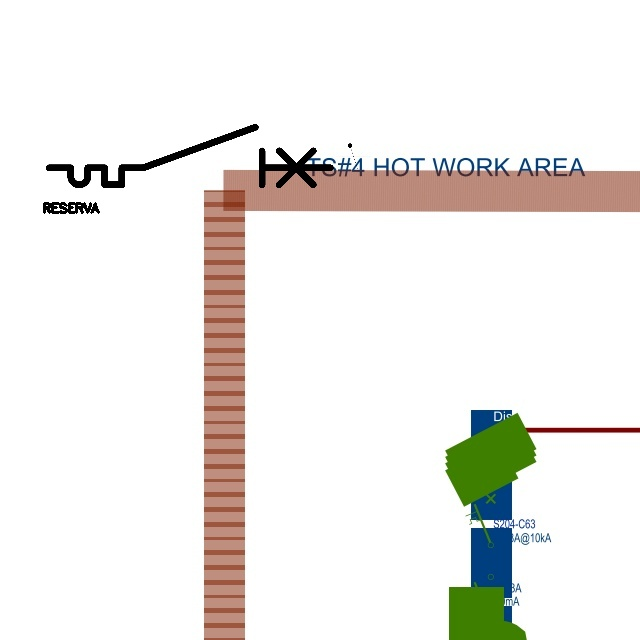interruptor_termomagnetico: (42, 120, 337, 192)
